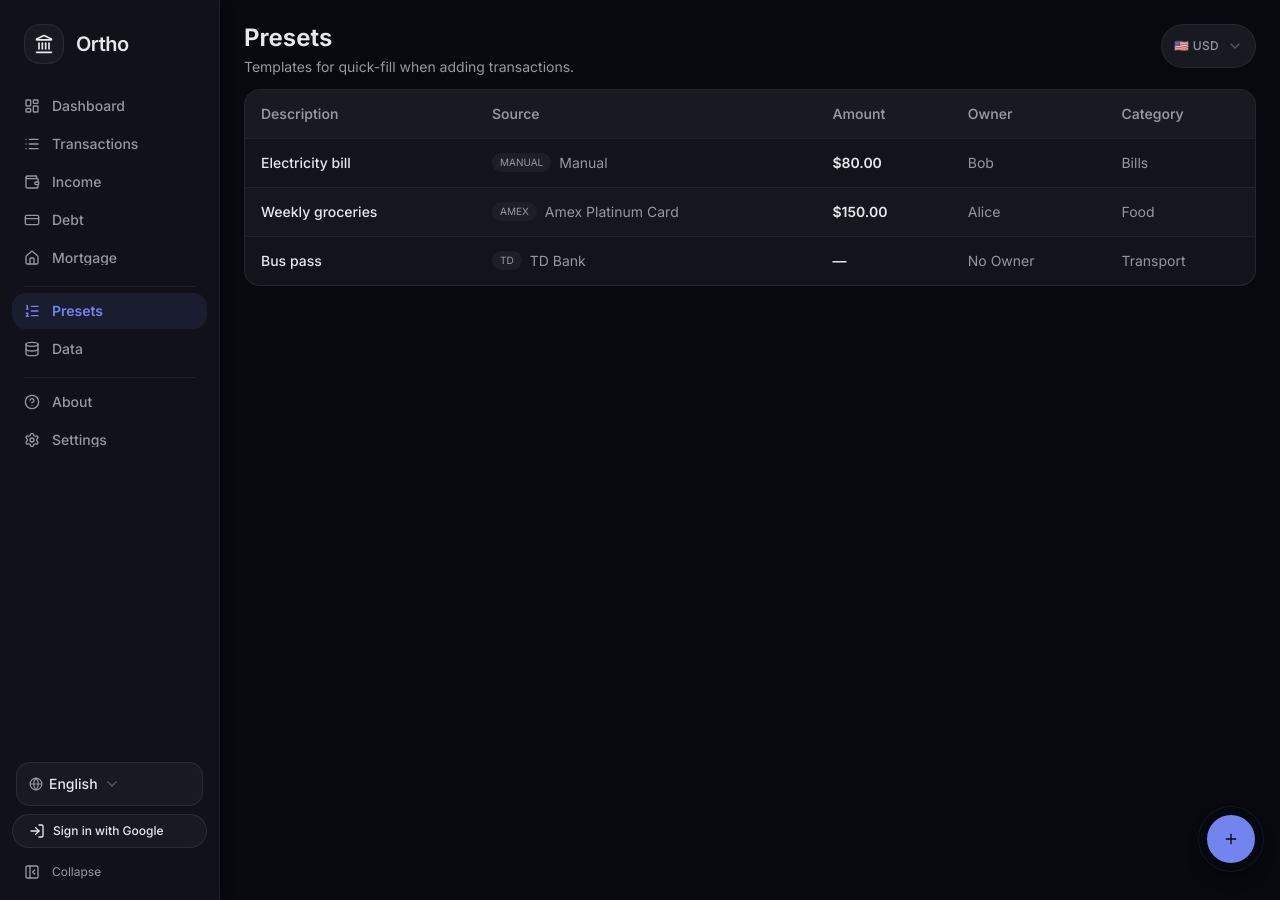
Test: PresetsPage opens actions sheet on row click
What coordinates should you click on to do the following:
click the button "Weekly groceries AMEX Amex Platinum Card $150.00 Alice Food"
I would click on:
 (319, 211)
Its box is [245, 187, 1255, 236].
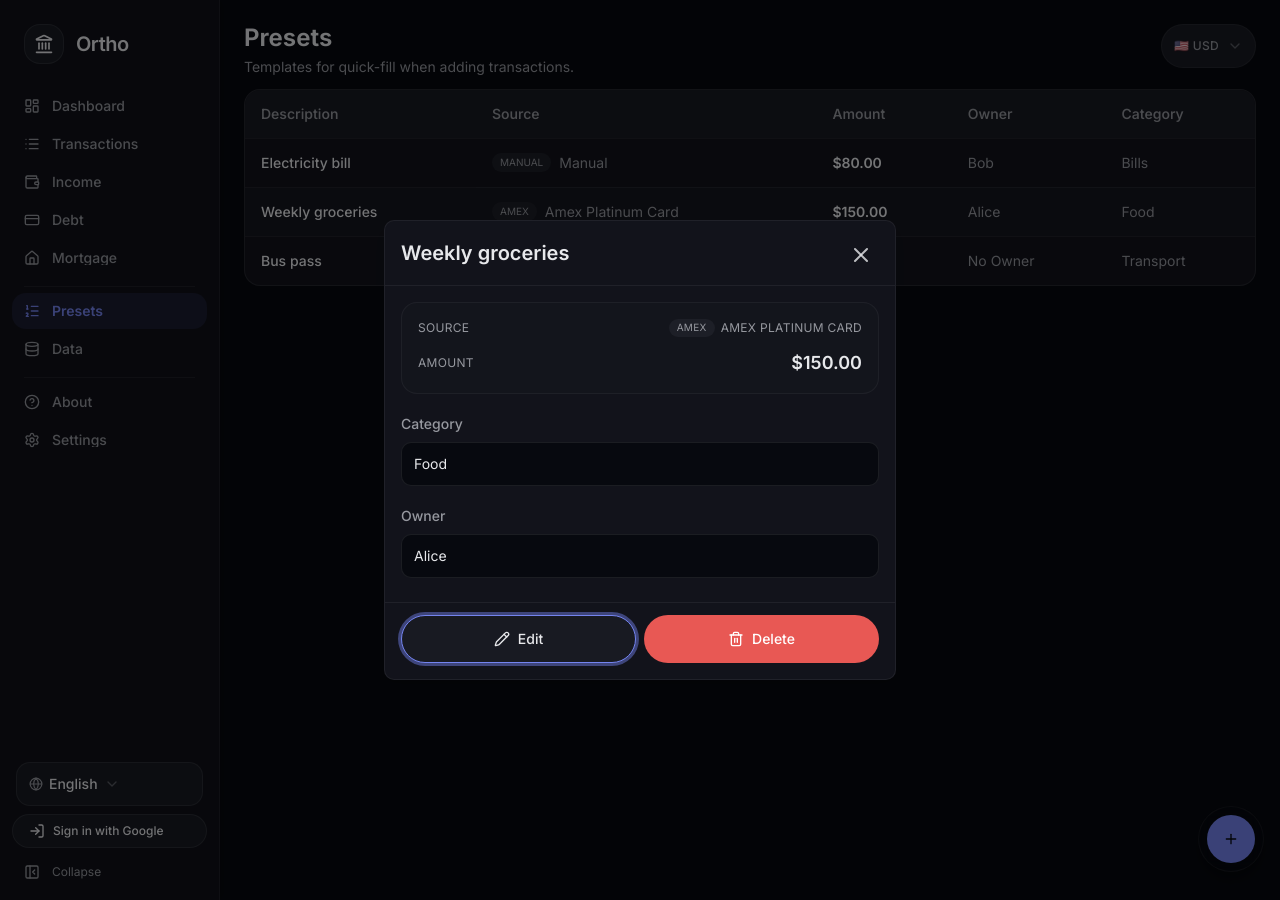
Expected: the button "Edit" is shown, [401, 615, 636, 663]
Expected: the button "Delete" is shown, [644, 615, 879, 663]
